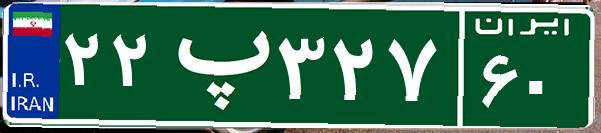0: (525, 38, 570, 115)
2: (330, 28, 385, 110), (57, 26, 110, 107), (110, 28, 158, 105)
3: (273, 28, 330, 110)
6: (475, 38, 525, 113)
7: (385, 28, 445, 110)
پ: (158, 15, 273, 115)
